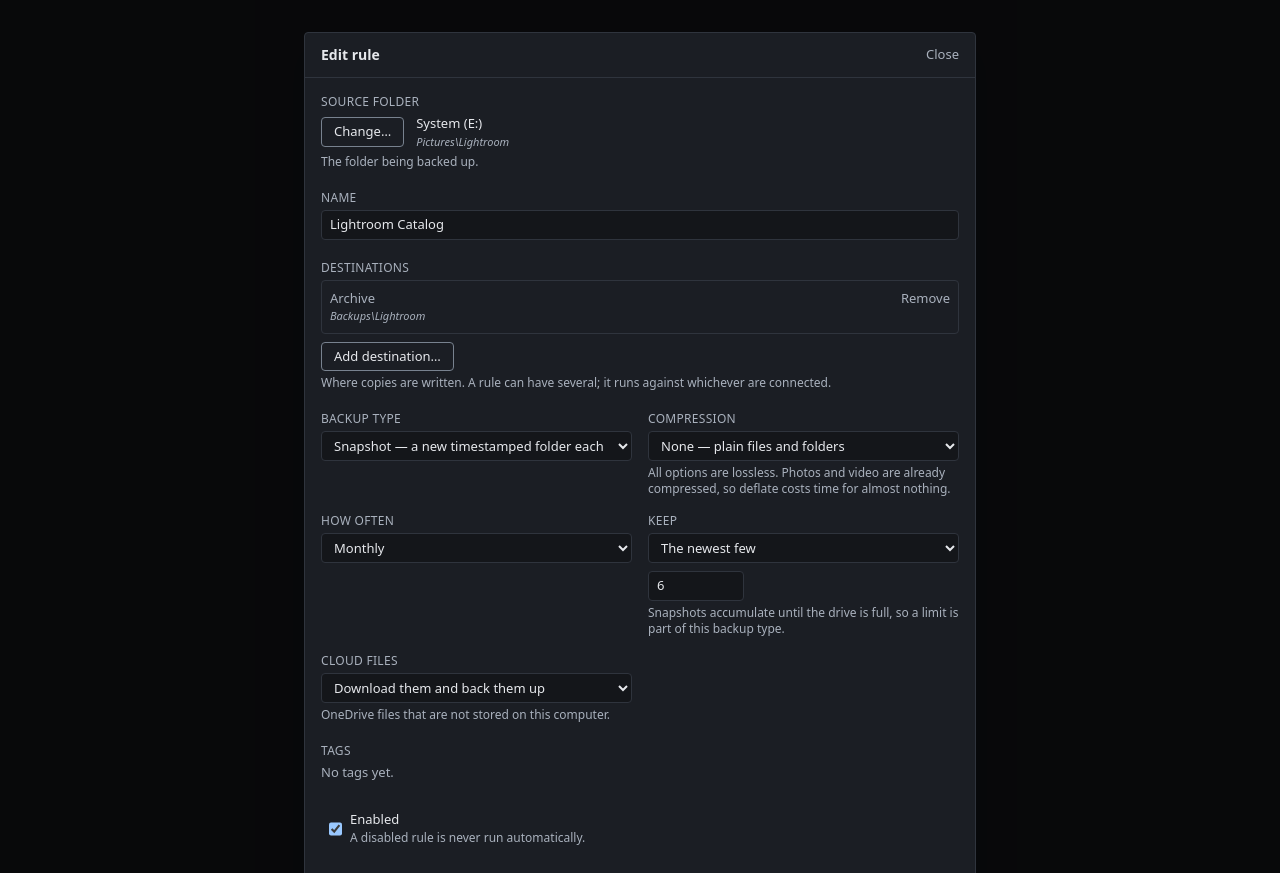
Test case: RuleEditor destinations › falls back to the serial when the picked drive has no label
Click the button "Add destination…" at x=387, y=356, box [321,342,454,371]
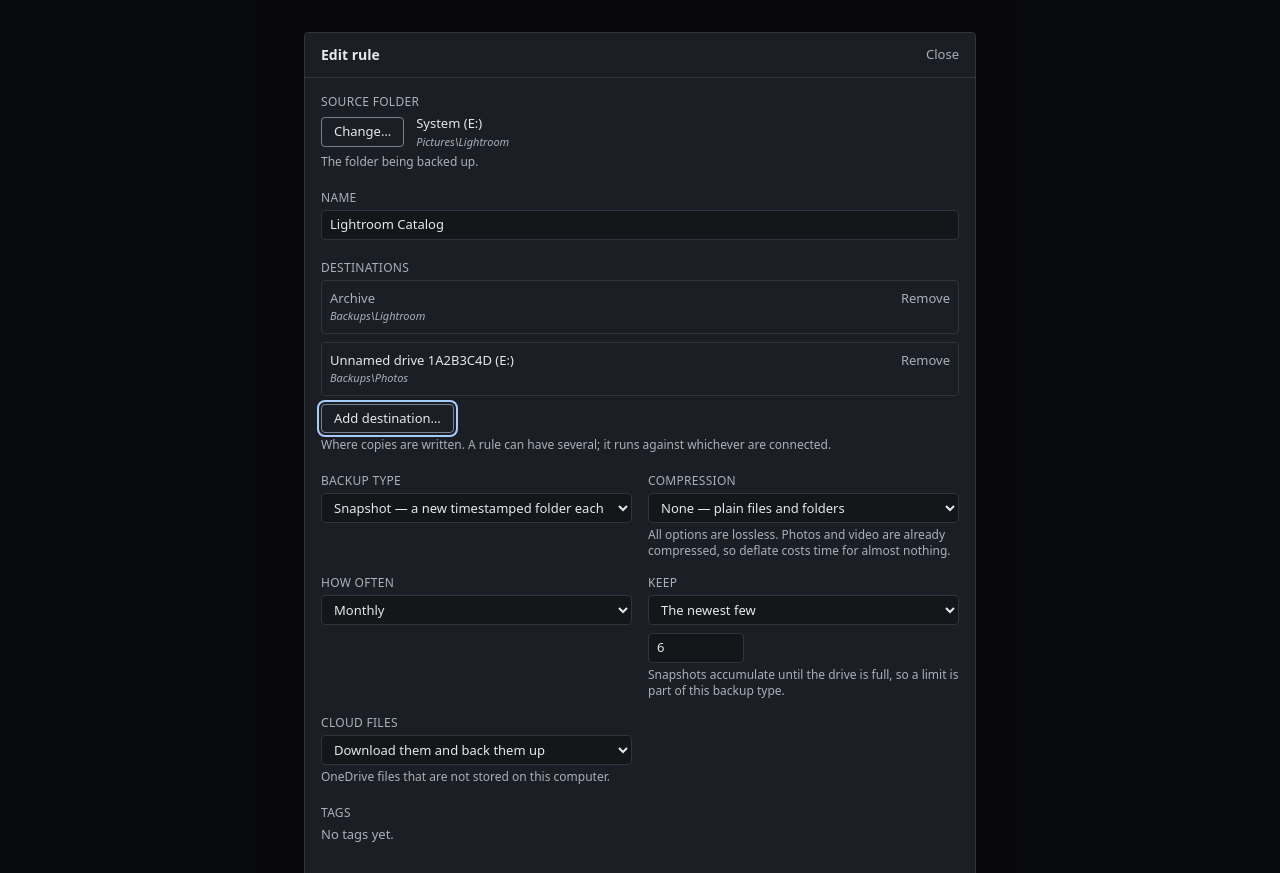
Expected: the text "Unnamed drive 1A2B3C4D (E:)" is shown, [330,350,514,370]
